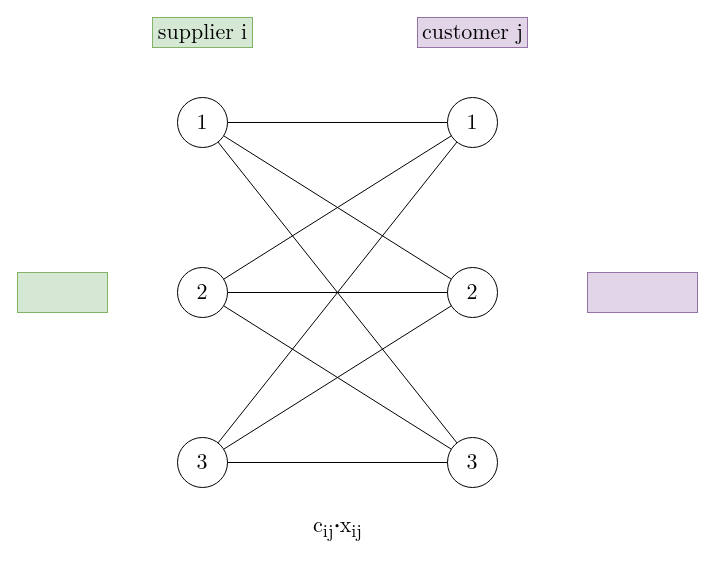
Some shapes in this 715 by 565 pixel diagram are drawn without their labels. Here are the shapes that lost their labels. From the top down, the box of each, then its label:
(16, 272, 108, 312): supply a i
(586, 272, 698, 312): demand b j
